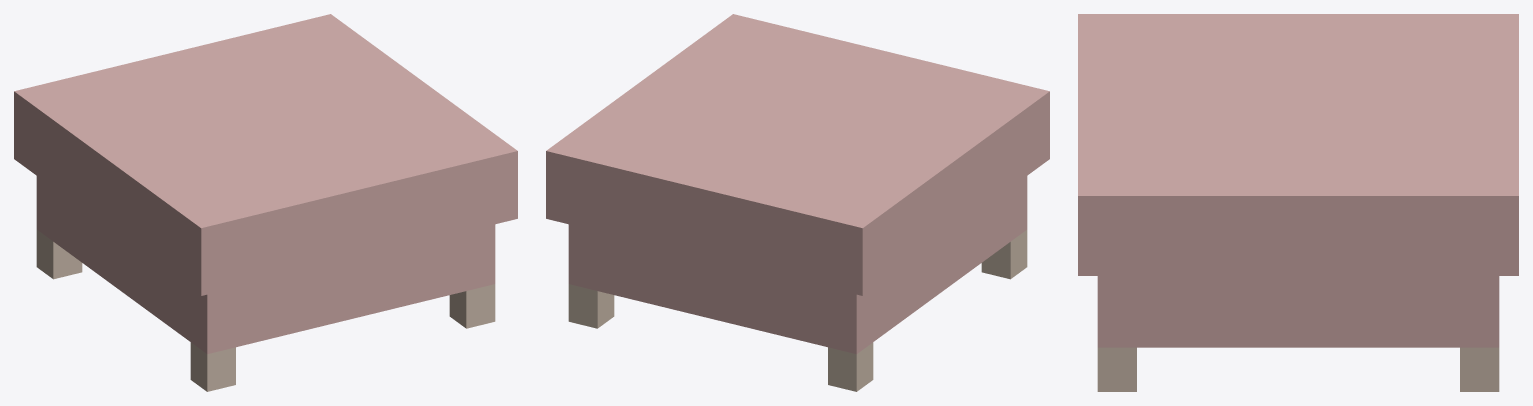
Rendered from furn_loungeSofaOttoman.glb.
3 views of the same model, side by side, from view 1: azimuth 30°, elevation 25°; view 2: azimuth 150°, elevation 25°; view 3: azimuth 270°, elevation 25° (orthographic). The views are drawn at different scales.
Size of the model in its own units: 0.8797 by 0.46 by 0.9.
